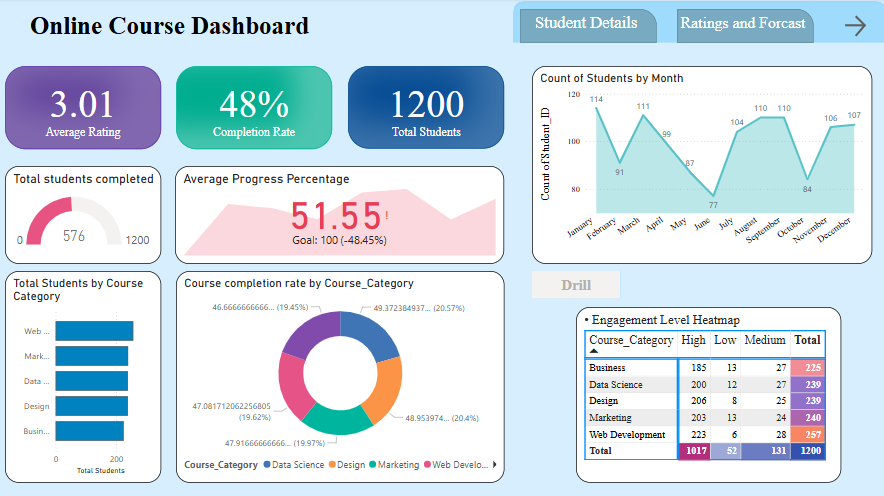

What the dashboard file says about the page in this screenshot:
{"tool":"powerbi","page":{"name":"Dashboard","canvas":[1280,720],"ordinal":0},"visuals":[{"type":"shape","box":[741.6,4.3,538.6,60.5],"z":0},{"type":"kpi","title":"Average Progress Percentage ","fields":{"Indicator":["Sheet1.Avg Progress"],"Goal":["Sheet1.value"],"TrendLine":["Sheet1.Total Session_Attendance"]},"box":[254.9,241.9,473.8,141.1],"z":1000},{"type":"card","fields":{"Values":["Sheet1.Total Students"]},"box":[504.6,97.8,225.4,119],"z":2000},{"type":"card","title":"Average Rating","fields":{"Values":["Sheet1.Avg Rating"]},"box":[10.1,97.9,224.6,119.5],"z":3000},{"type":"card","fields":{"Values":["Sheet1.Completion Rate"]},"box":[256.3,97.9,224.6,119.5],"z":4000},{"type":"donutChart","title":"Course completion rate by Course_Category","fields":{"Category":["Sheet1.Course_Category"],"Y":["Sheet1.Course comp rate"]},"box":[256.5,392.6,473.4,304.7],"z":5000},{"type":"pivotTable","title":"•\tEngagement Level Heatmap","fields":{"Rows":["Sheet1.Course_Category"],"Columns":["Sheet1.Engagement Level"],"Values":["CountNonNull(Sheet1.Engagement Level)"]},"box":[832.3,445,381.6,253.4],"z":6000},{"type":"actionButton","title":"Drill","box":[769,393.1,126.7,40.3],"z":7000},{"type":"actionButton","box":[1213.9,20.2,53.3,40.3],"z":8000},{"type":"gauge","title":"Total students completed","fields":{"Y":["Sheet1.Total completed"],"MaxValue":["Sheet1.Total Students"]},"box":[10.1,241.9,224.6,141.1],"z":9000},{"type":"shape","box":[0,4.3,493.9,60.5],"z":10000},{"type":"areaChart","title":"Count of Students by Month","fields":{"Category":["Sheet1.Enrollment_Date.Variation.Date Hierarchy.Month","Sheet1.Enrollment_Date.Variation.Date Hierarchy.Day"],"Y":["CountNonNull(Sheet1.Student_ID)"]},"box":[769,97.9,489.6,285.1],"z":11000},{"type":"barChart","title":"Total Students by Course Category","fields":{"Y":["Sheet1.Total Students"],"Category":["Sheet1.Course_Category"]},"box":[9.9,392.6,225.4,304.7],"z":12000},{"type":"shape","box":[977.8,15.8,197,49],"z":13000},{"type":"shape","box":[751.7,15.8,197.3,49],"z":14000}]}

Visuals, with their boxes in screenshot pixels (x1, y1, x2, y2), scaled from the page's 1280x720 canvas onto the 884x496 screenshot:
shape: (512,3,883,45)
"Average Progress Percentage " kpi: (176,167,503,264)
card - Sheet1.Total Students: (348,67,504,149)
"Average Rating" card: (7,67,162,150)
card - Sheet1.Completion Rate: (177,67,332,150)
"Course completion rate by Course_Category" donutChart: (177,270,504,480)
"•	Engagement Level Heatmap" pivotTable: (575,307,838,481)
"Drill" actionButton: (531,271,619,299)
actionButton: (838,14,875,42)
"Total students completed" gauge: (7,167,162,264)
shape: (0,3,341,45)
"Count of Students by Month" areaChart: (531,67,869,264)
"Total Students by Course Category" barChart: (7,270,163,480)
shape: (675,11,811,45)
shape: (519,11,655,45)
